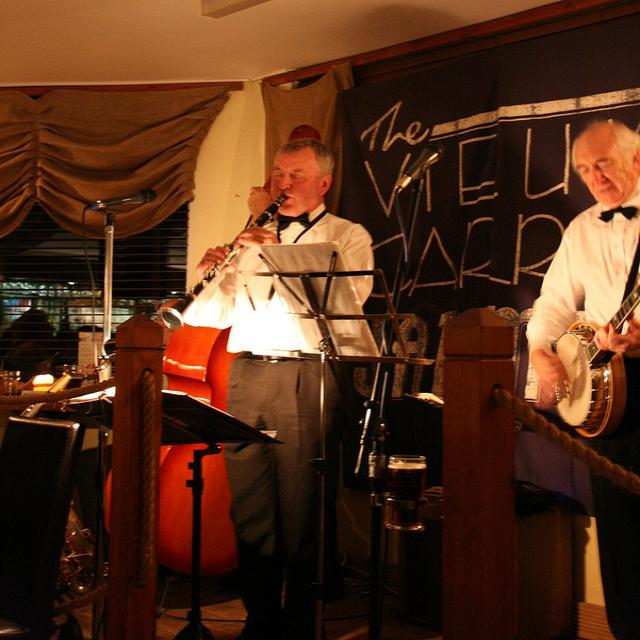clarinet: (160, 194, 290, 332)
